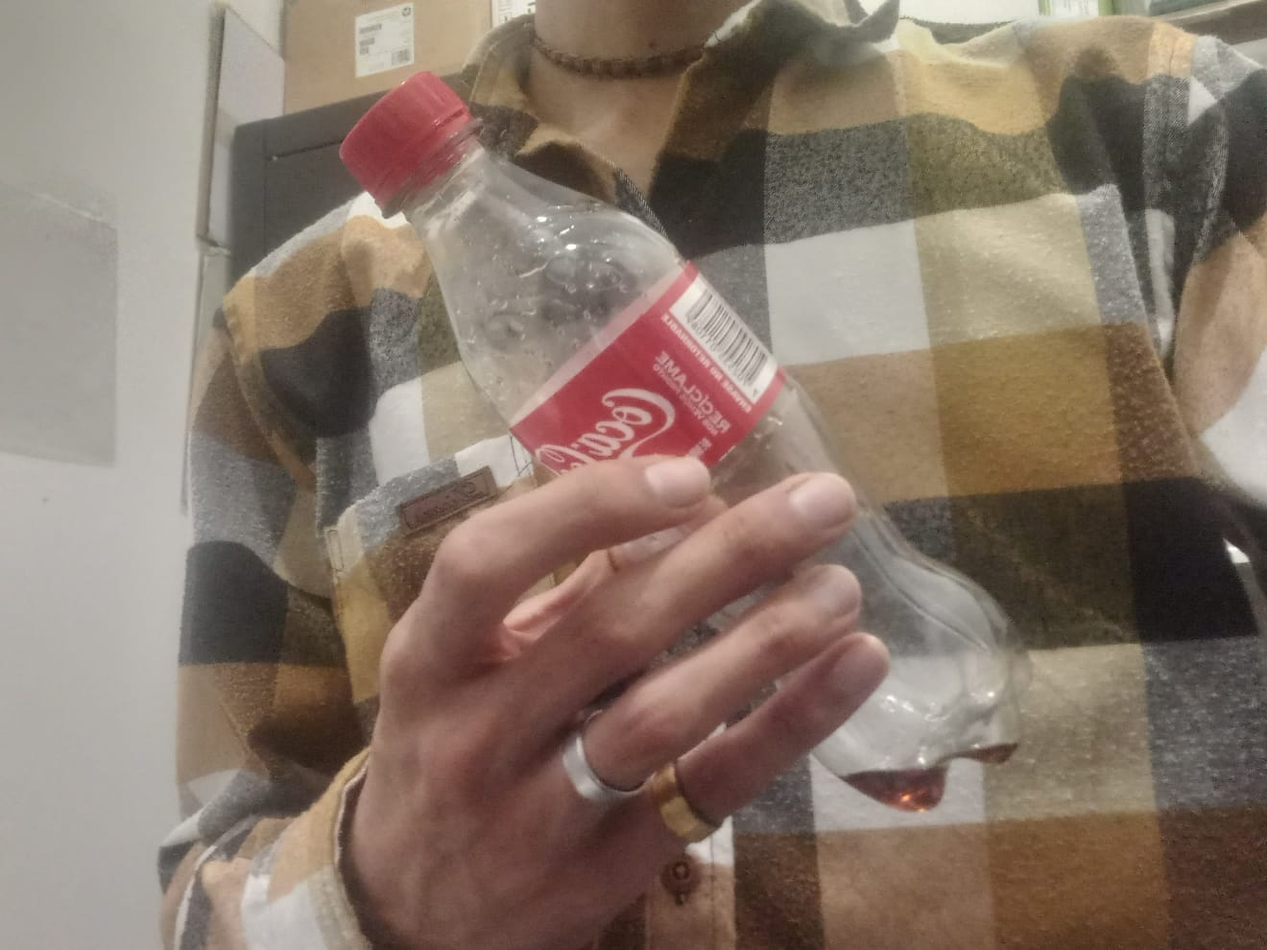Plastico: (338, 69, 1034, 815)
